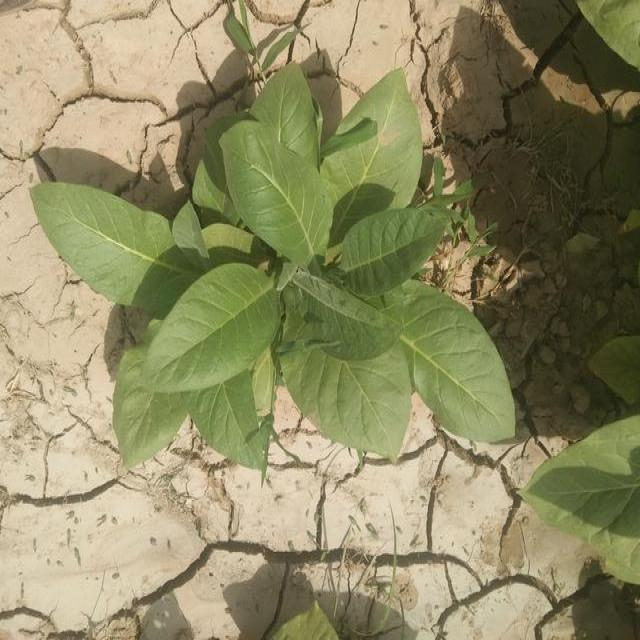crop: (33, 178, 430, 320), (282, 274, 502, 445), (225, 75, 431, 248), (122, 295, 263, 472)
